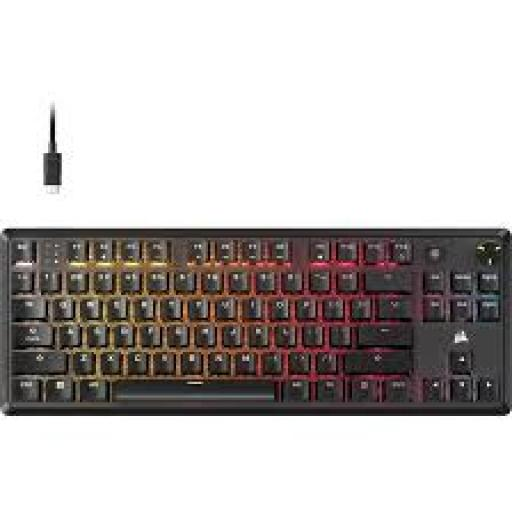KEYBOARD-2: (0, 229, 510, 411)
